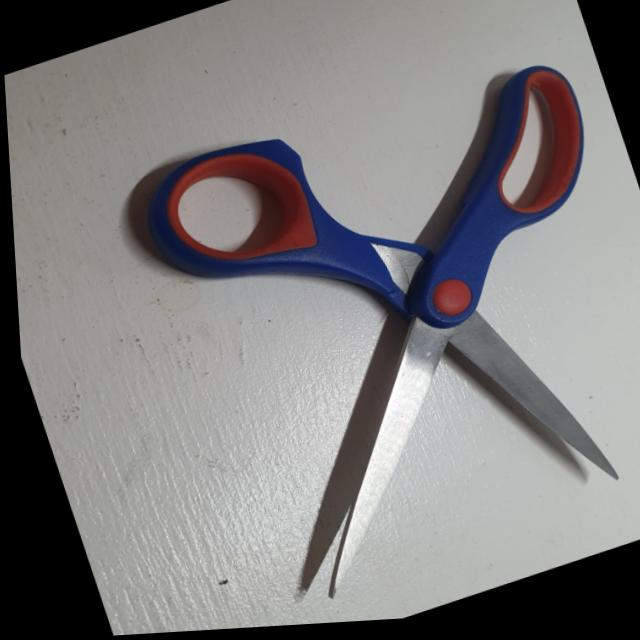scissor: (101, 30, 640, 634)
